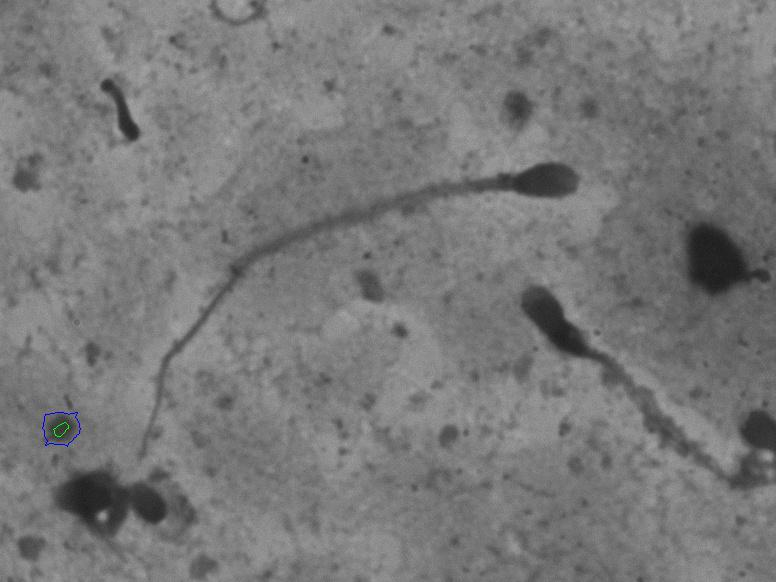Abnormal: (238, 139, 585, 277), (464, 279, 745, 444)
